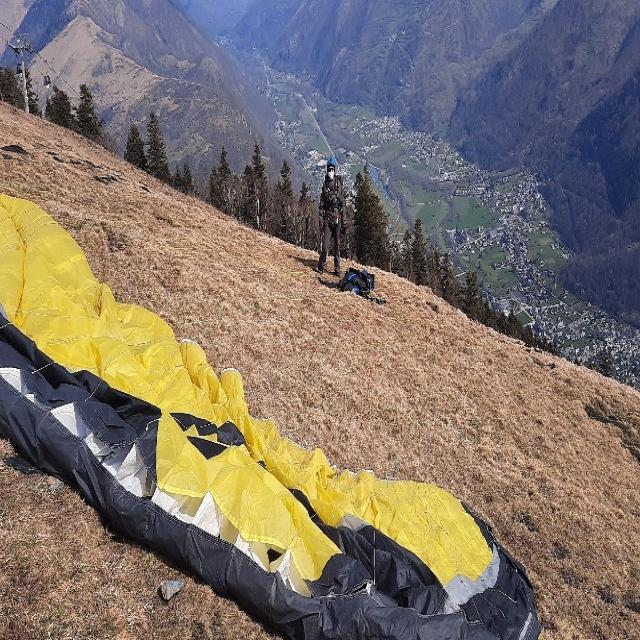paraglider: (0, 191, 541, 637)
